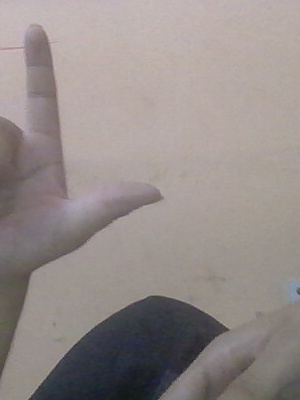L: (8, 17, 177, 278)
